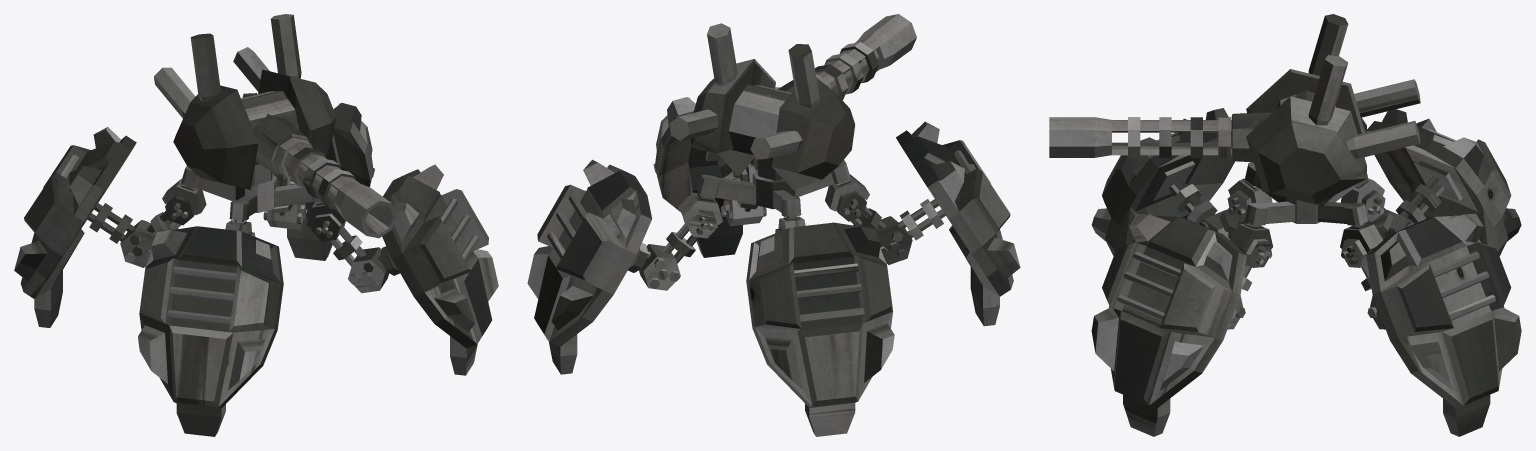
The model's file is turret3.glb.
3 views of the same model, side by side, from view 1: azimuth 30°, elevation 25°; view 2: azimuth 150°, elevation 25°; view 3: azimuth 270°, elevation 25° (orthographic). The views are drawn at different scales.
Visible parts, largest first — view 1: Gun; view 2: Gun; view 3: Gun.
Boxes of the visible parts, x1,y1,x2,y2 form: Gun: [14, 14, 498, 436]; Gun: [527, 14, 1020, 436]; Gun: [1049, 14, 1521, 436].
Bounding box in the file's own units: 6.83 × 5.73 × 7.53.
1 material, 1 textured.
